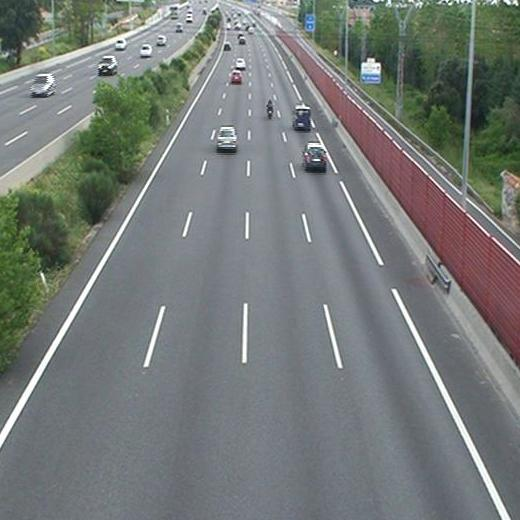car: (303, 143, 326, 169), (217, 127, 237, 148), (230, 71, 242, 84), (234, 58, 245, 69), (237, 36, 247, 46), (222, 42, 230, 49)
motorcycle: (266, 98, 275, 118)
van: (293, 106, 311, 129)
